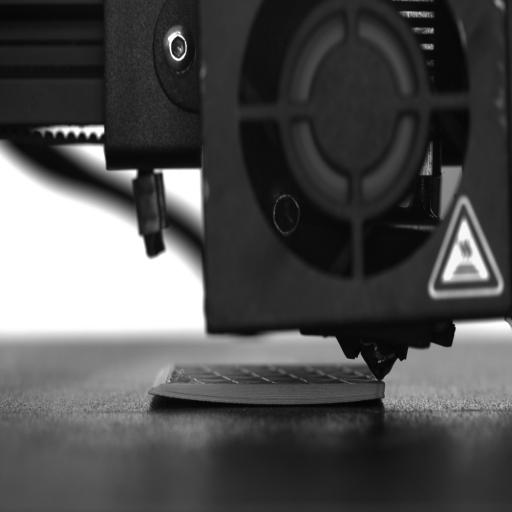warp: (144, 384, 200, 412), (338, 390, 392, 412)
